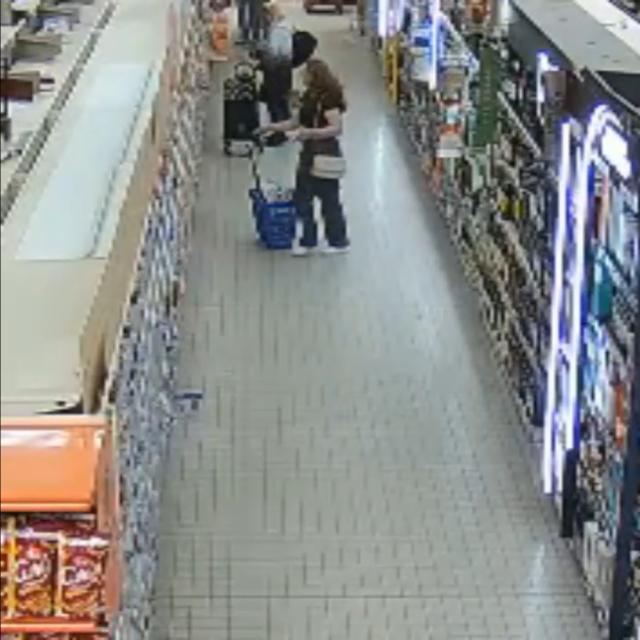bags: (292, 31, 317, 68), (311, 155, 346, 180)
hands: (292, 128, 313, 141), (257, 124, 274, 136)
person: (263, 59, 349, 254), (259, 3, 293, 123)
